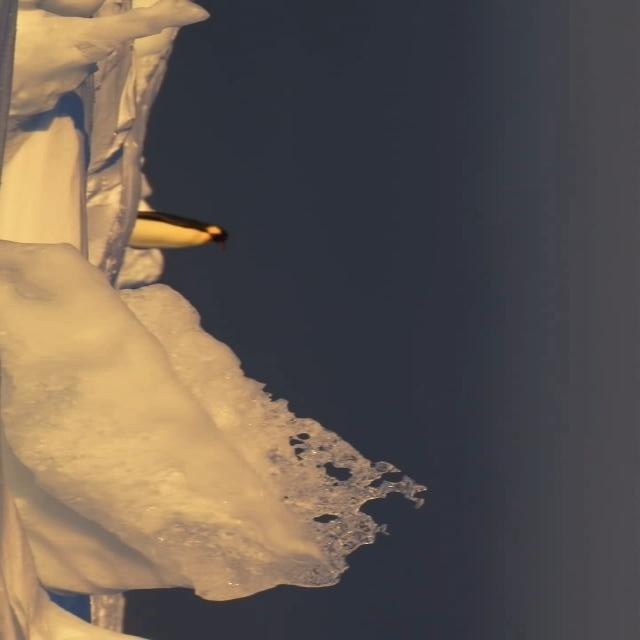penguin: (126, 212, 228, 252)
